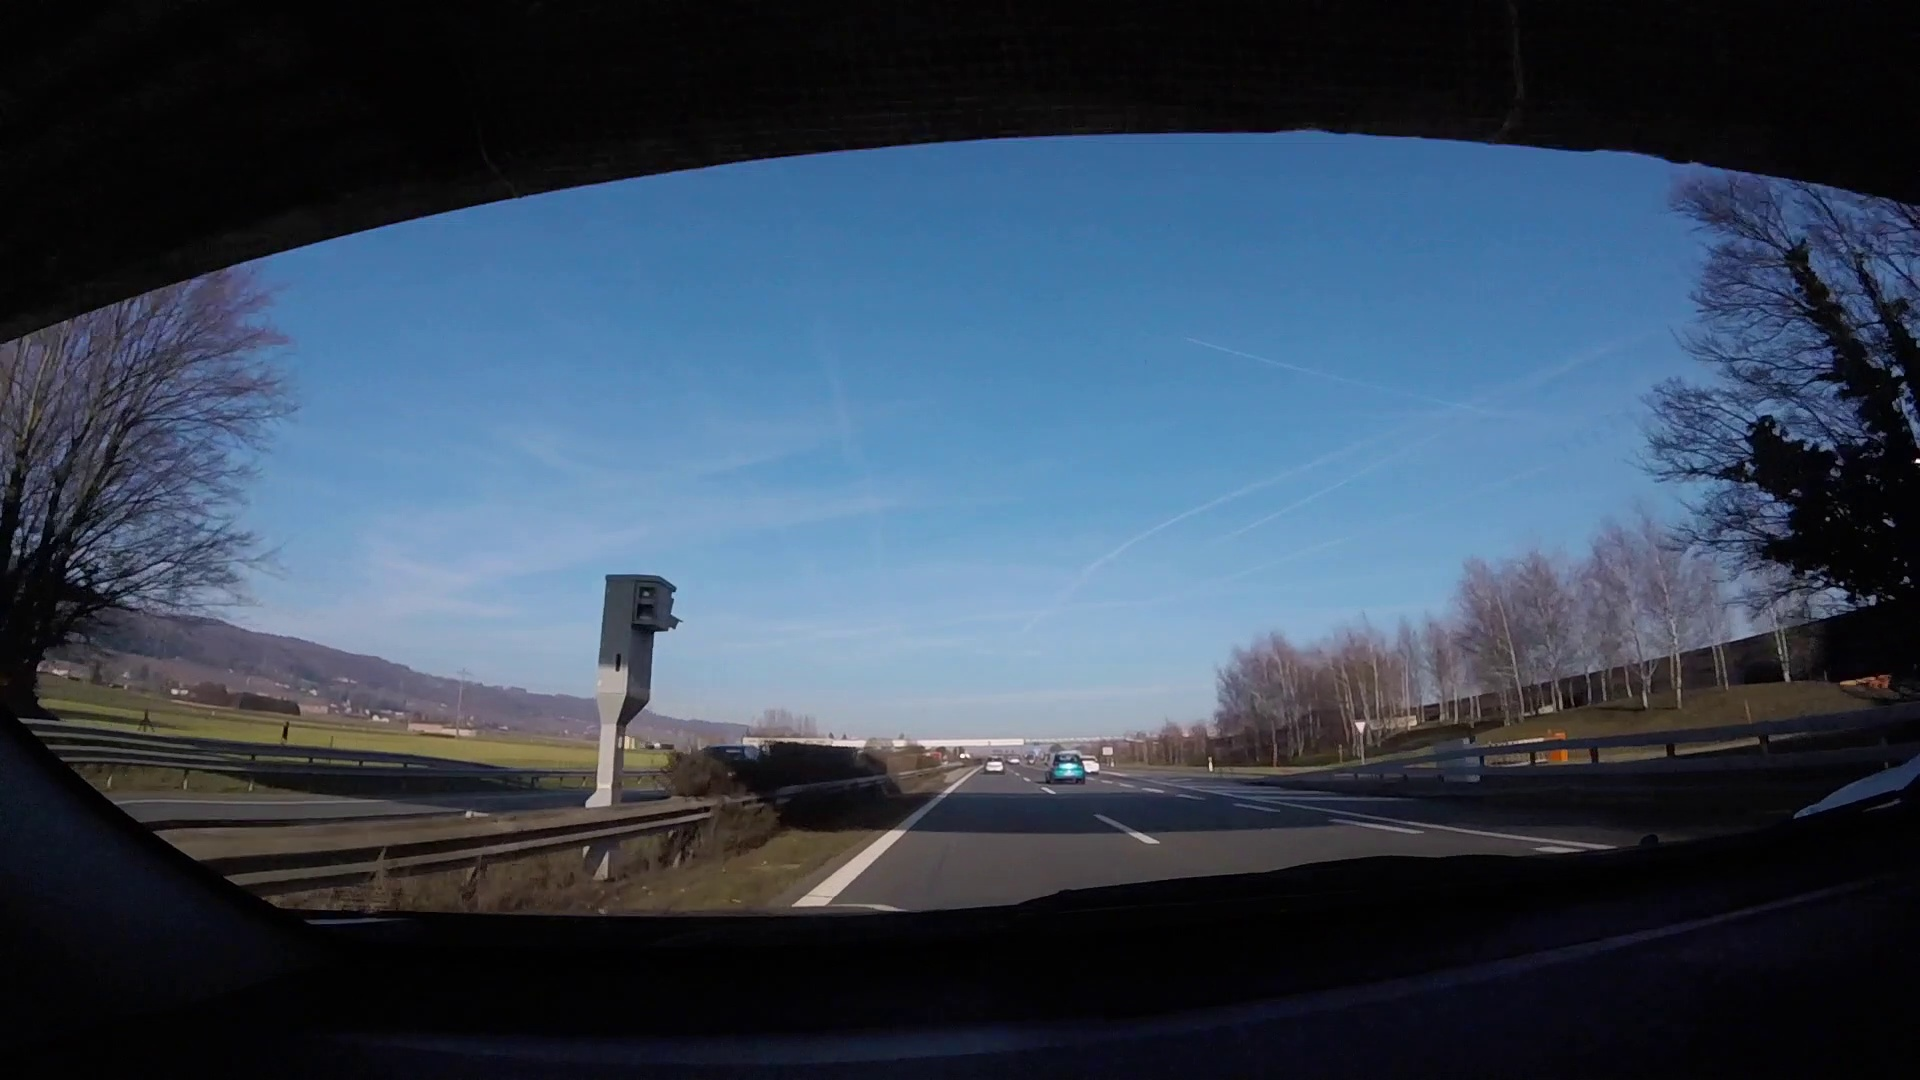radar: (595, 572, 686, 790)
